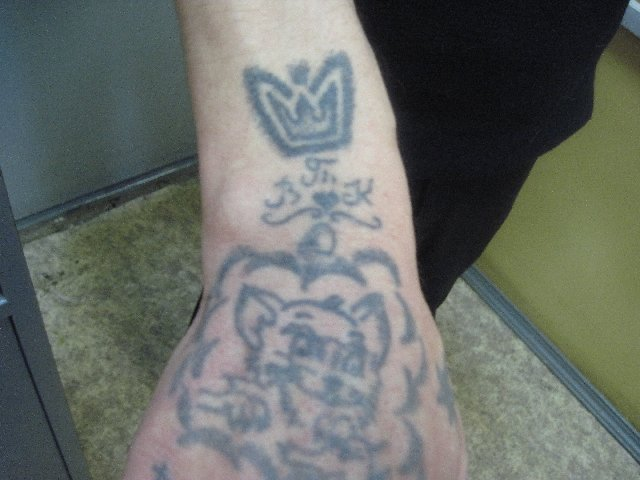tatu3_bukva: (256, 153, 386, 213)
tatu8_kot: (178, 252, 441, 473)
